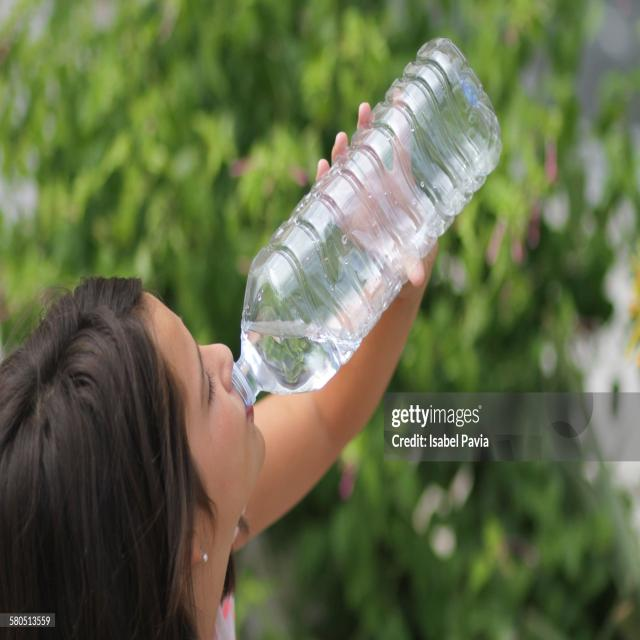bottle: (228, 31, 508, 408)
